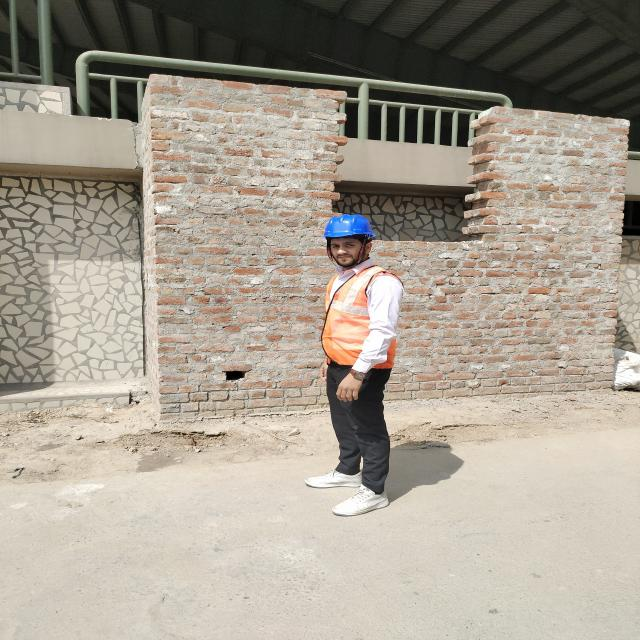safe: (317, 214, 403, 514)
